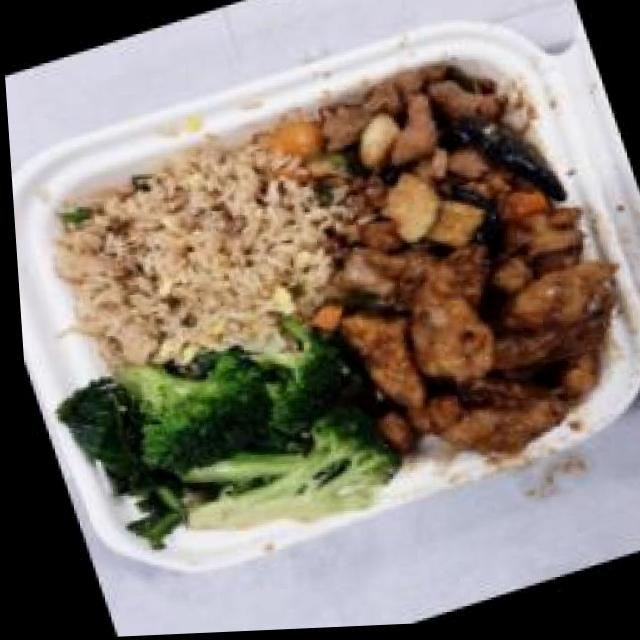Kung Pao Chicken: (258, 38, 596, 332)
Super Greens: (36, 287, 409, 584)
The Original Orange Chicken: (277, 173, 640, 513)
White Steamed Rice: (14, 108, 369, 405)
